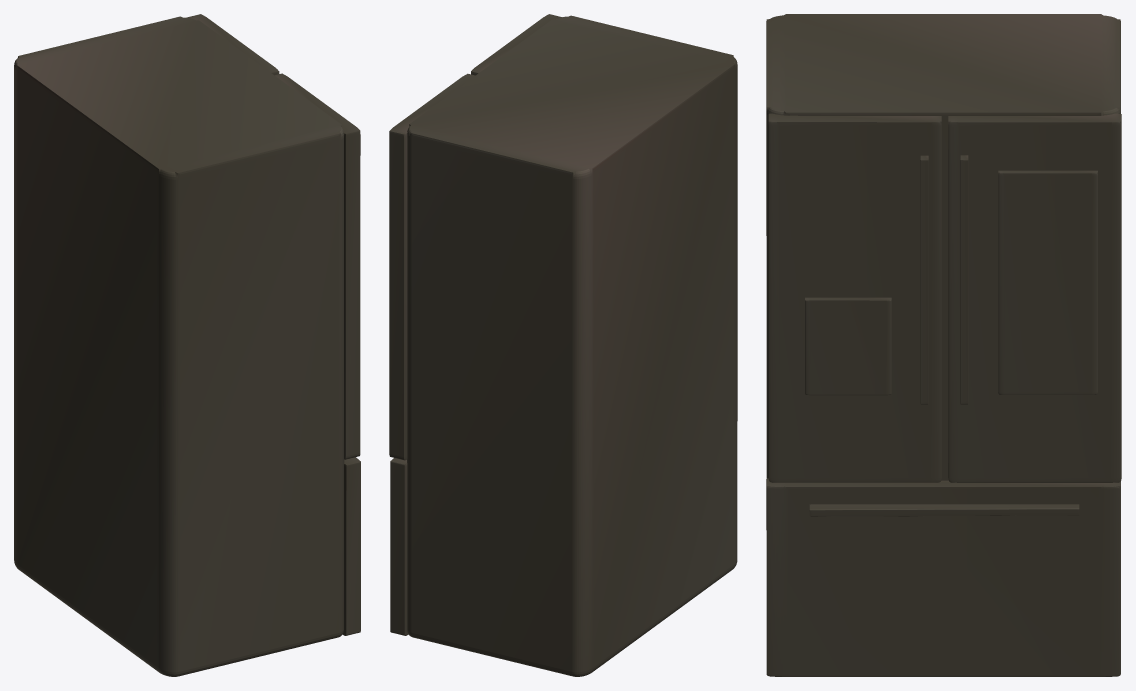
File: fridge.glb
3 views of the same model, side by side, from view 1: azimuth 30°, elevation 25°; view 2: azimuth 150°, elevation 25°; view 3: azimuth 270°, elevation 25° (orthographic). The views are drawn at different scales.
Visible parts, largest first — view 1: Cube.008; view 2: Cube.008; view 3: Cube.008.
Part boxes in pixels (x1=…): Cube.008: x1=14, y1=14, x2=360, y2=676; Cube.008: x1=389, y1=14, x2=737, y2=676; Cube.008: x1=766, y1=14, x2=1121, y2=676.
Size of the model in its own units: 0.9329 by 2.21 by 1.27.
